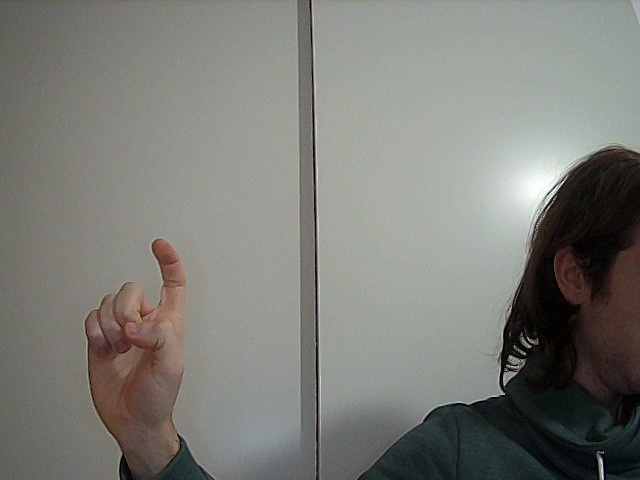x: (73, 231, 192, 421)
